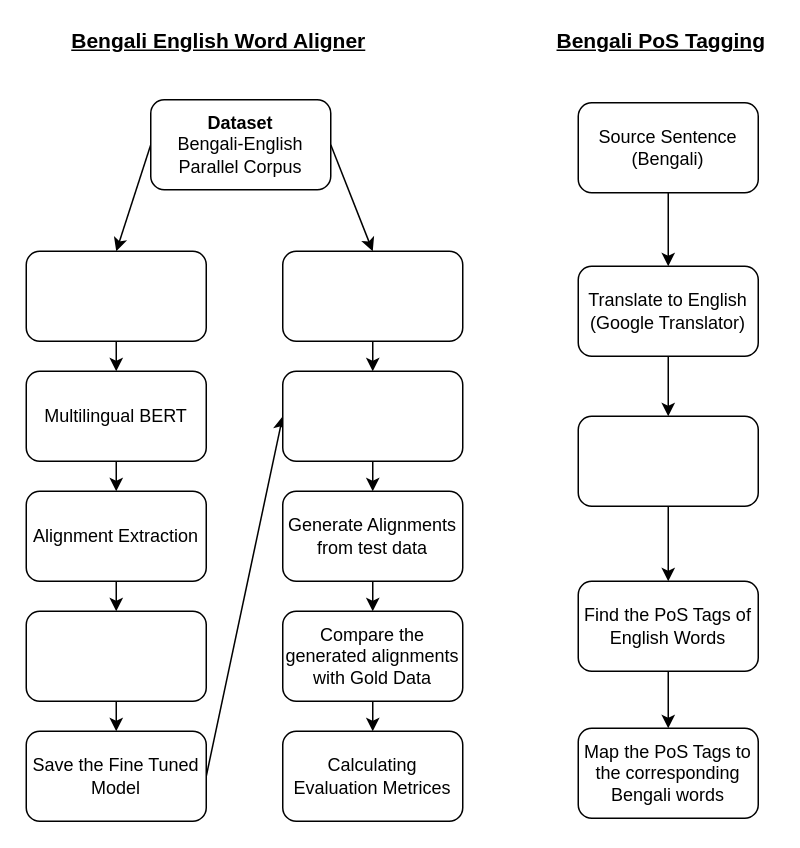
This 800x848 diagram has some shape labels left out. The shapes that lost their labels are listed below. From the top down, each one's centre as x and y in pixels, then its label:
At pixel 115 295: "Training & Validation".
At pixel 372 295: "Testing".
At pixel 372 415: "Load the Model".
At pixel 667 460: "Bn-En Alignment Generation".
At pixel 115 655: "Fine tune Multilingual BERT with Training Dataset".
